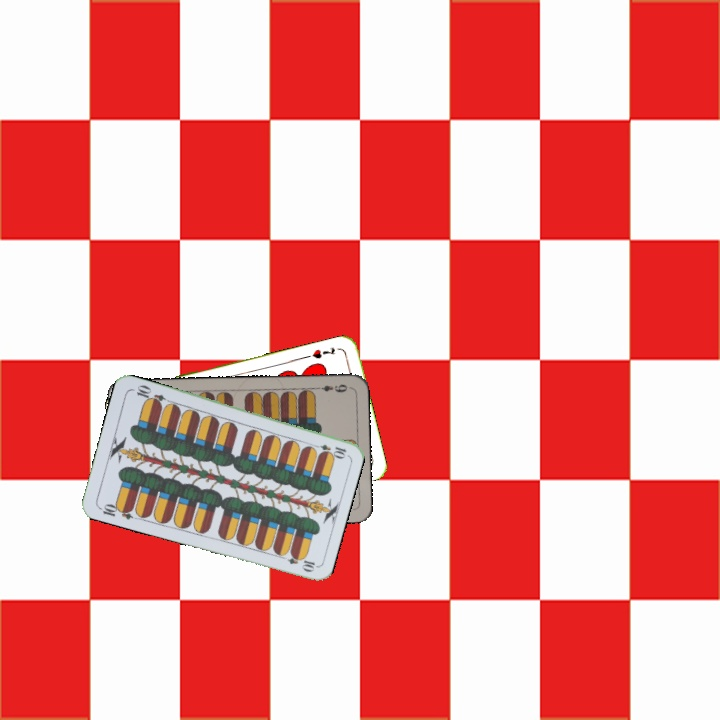E10: (95, 500, 136, 522), (308, 440, 349, 459)
E9: (312, 380, 352, 395)
H7: (308, 343, 337, 361)
